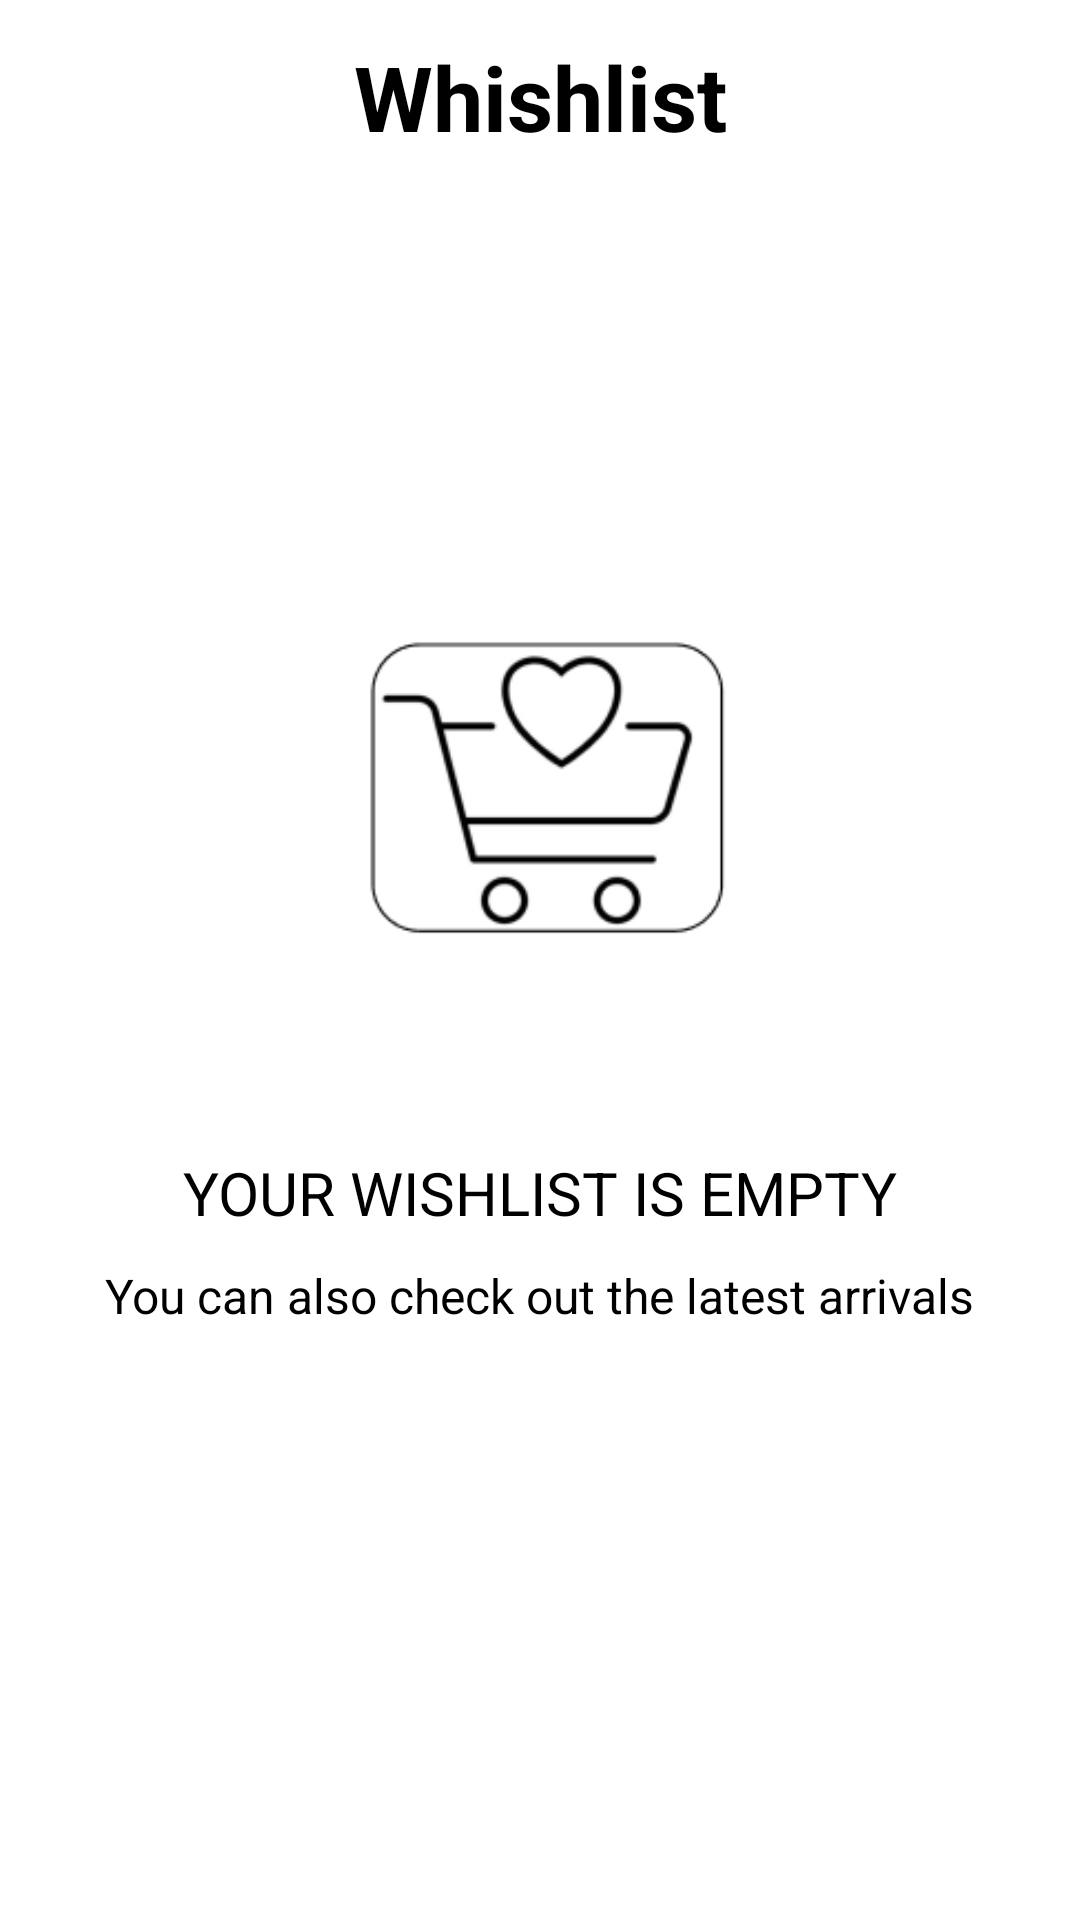

Where to tap for icons on this 1080x1920 app screen, as point (x, y):
wishh: point (547, 787)
